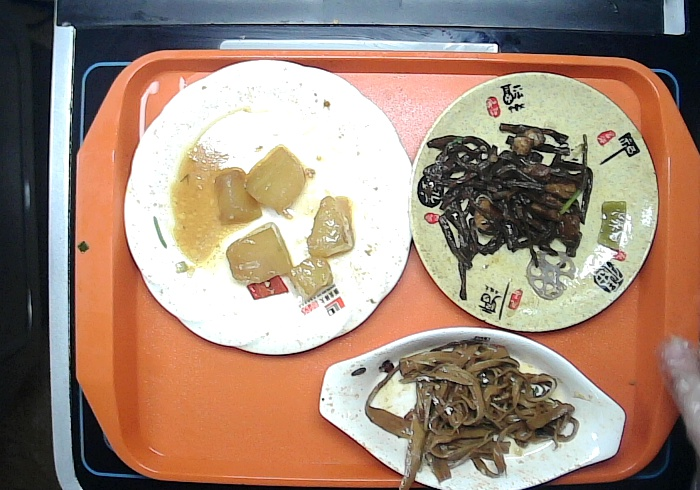NLDX-Bai_Zhe_Yuan_Pan: (120, 53, 415, 376)
NLDX-Fu_Zi_Yuan_Pan: (406, 69, 660, 333)
NLDX-Yu_Pan: (315, 325, 628, 490)
